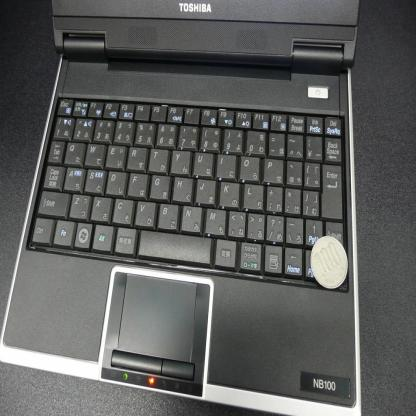board: (0, 0, 367, 395)
